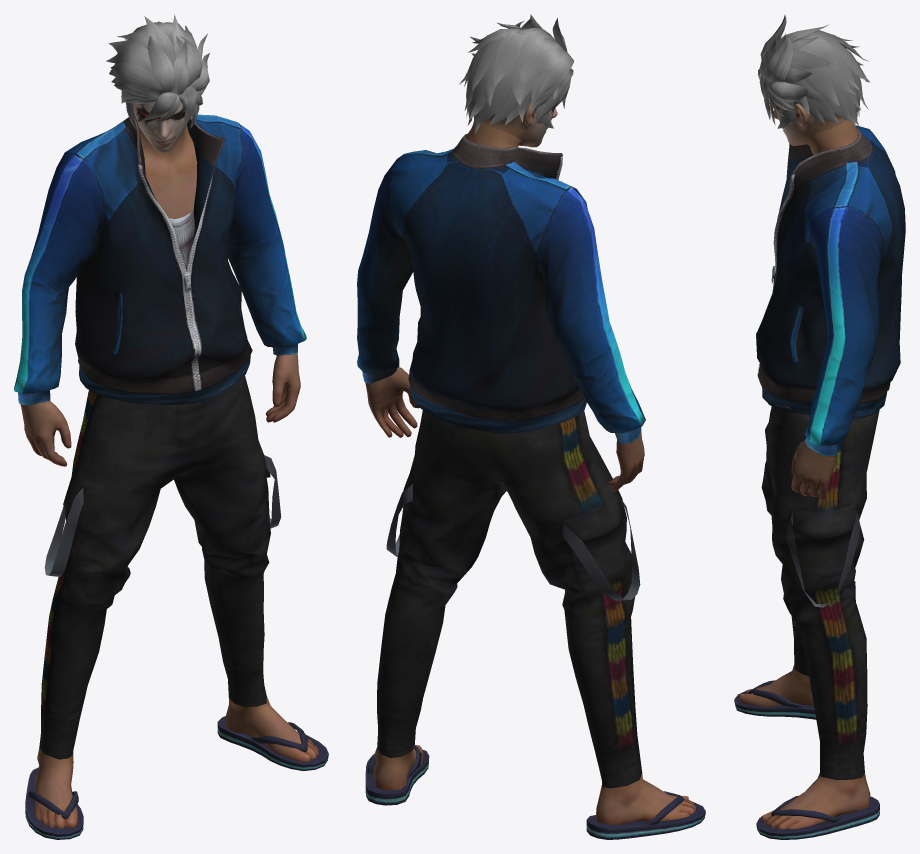
The model's file is the_best_skins_free_fire_by__sheepx777.glb.
The picture shows the model from 3 angles, left to right: view 1: azimuth 30°, elevation 25°; view 2: azimuth 150°, elevation 25°; view 3: azimuth 270°, elevation 25°; orthographic projection. The views are drawn at different scales.
Parts seen in each view (by area): view 1: Object_6, Object_3, Object_5, Object_2, Object_4; view 2: Object_6, Object_3, Object_5, Object_2, Object_4; view 3: Object_6, Object_3, Object_5, Object_2, Object_4.
Part boxes in pixels (x1,y1,x2,y2): Object_6: [14, 112, 306, 405]; Object_3: [39, 375, 281, 759]; Object_5: [18, 100, 318, 829]; Object_2: [106, 14, 209, 135]; Object_4: [25, 716, 328, 839]; Object_6: [357, 133, 645, 444]; Object_3: [377, 410, 642, 788]; Object_5: [365, 100, 695, 824]; Object_2: [459, 14, 573, 133]; Object_4: [365, 745, 705, 839]; Object_6: [756, 125, 905, 456]; Object_3: [761, 406, 879, 779]; Object_5: [738, 100, 870, 829]; Object_2: [758, 14, 869, 128]; Object_4: [734, 680, 879, 839].
Size of the model in its own units: 0.3784 by 0.9124 by 0.1909.
Materials: 5 (5 with a texture image).
